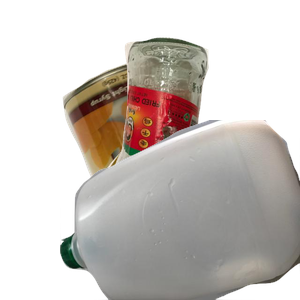glass: (112, 35, 300, 215)
metal: (60, 58, 300, 238)
plastic: (60, 120, 300, 300)
trash: (96, 145, 295, 300)
